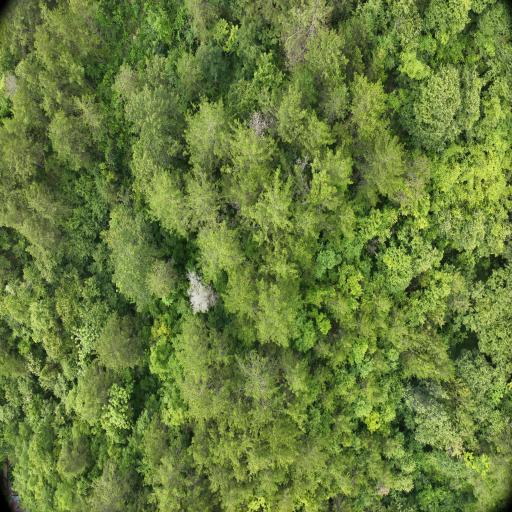dead-tree: (192, 273, 212, 315), (255, 110, 269, 133)
